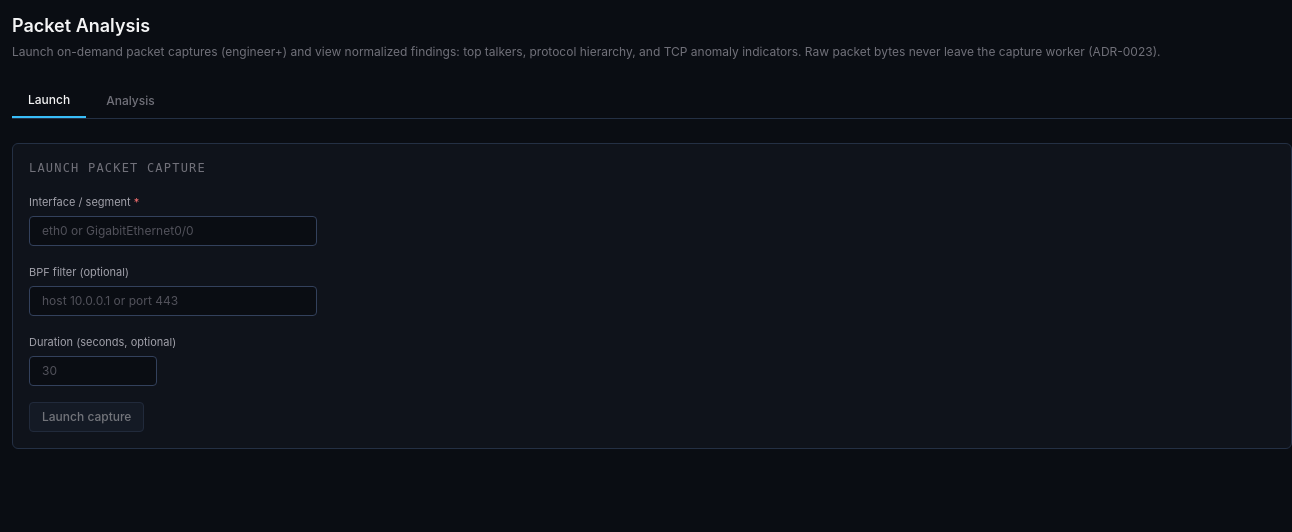
Test case: PacketPage — capture launch › shows error alert when the API returns an error
The width and height of the screenshot is (1292, 532).
Type "eth0" into the field with test id "capture-interface" at {"x": 173, "y": 231}, box top-left (29, 216), bottom-right (317, 246)
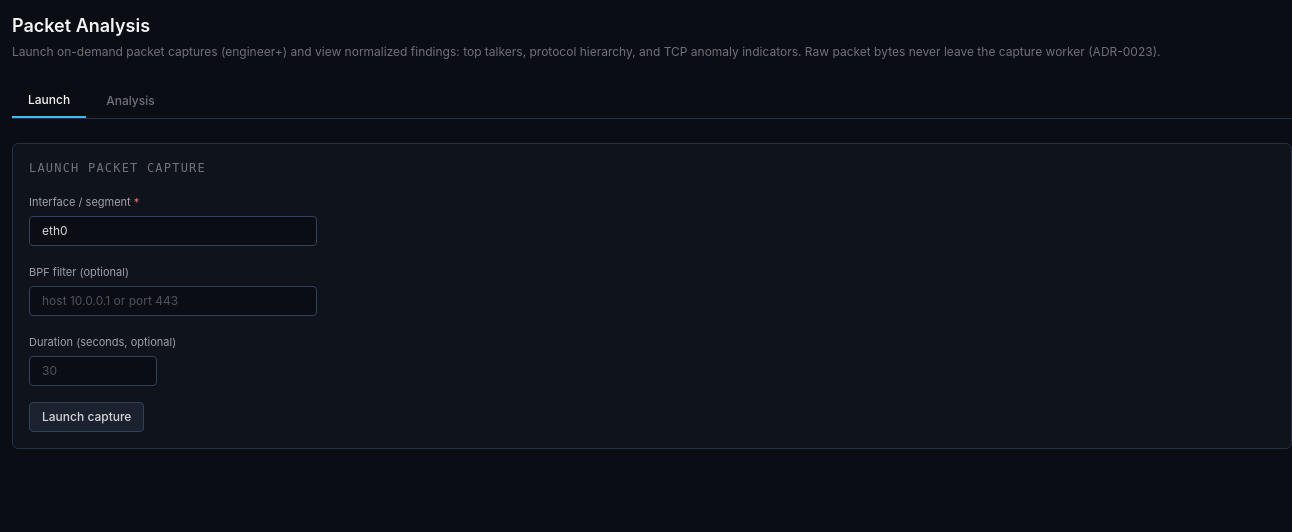
Click the button with test id "capture-launch-btn" at {"x": 87, "y": 417}, box top-left (29, 402), bottom-right (144, 432)
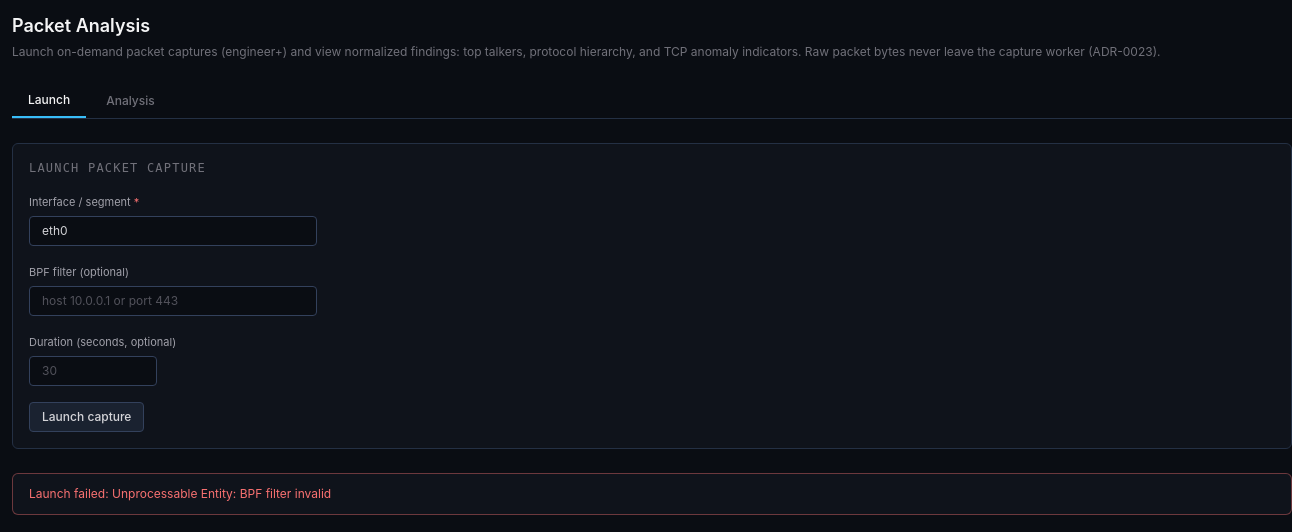
Result: the message "Launch failed: Unprocessable Entity: BPF filter invalid" is shown at top-left (12, 473), bottom-right (1291, 515)
Result: the message with test id "capture-launch-error" reads "Launch failed: Unprocessable Entity: BPF filter invalid" at top-left (29, 486), bottom-right (331, 501)
